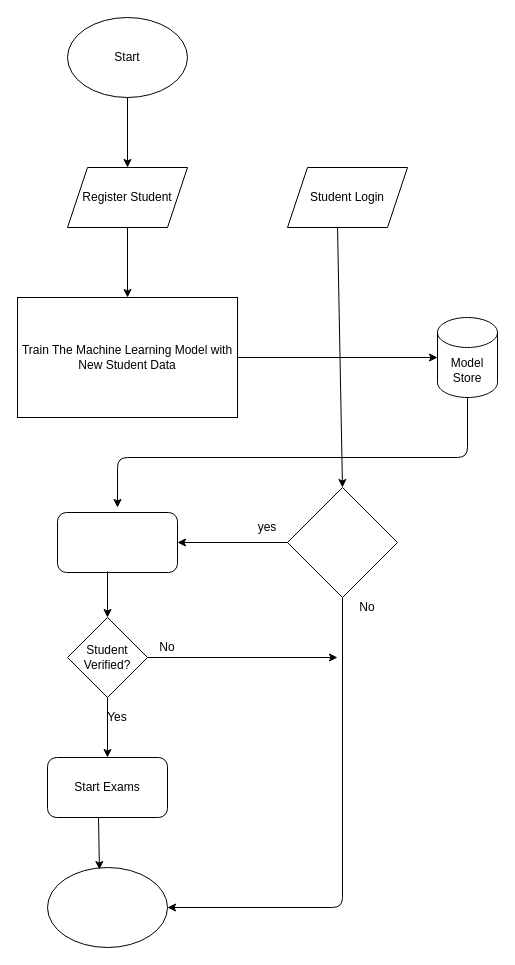
Image size: 515x965. Some labels were removed from this diagram. Each missing label, with the centre of its shape:
Does Student Exist?: the point at 342,542
End: the point at 107,907
Verify Student Identiey Before Exam: the point at 117,542
